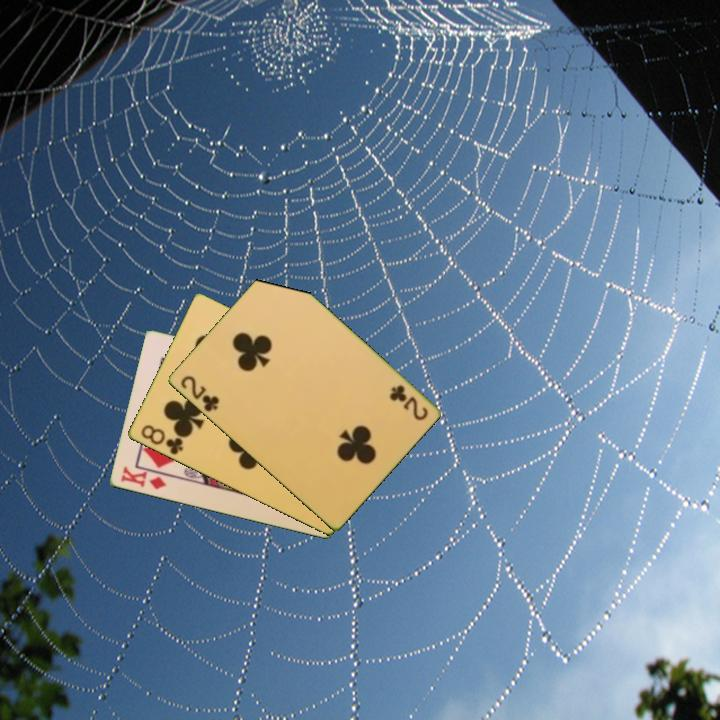2c: (177, 372, 222, 415), (386, 381, 430, 424)
8c: (137, 421, 186, 458)
Kd: (117, 463, 169, 493)
